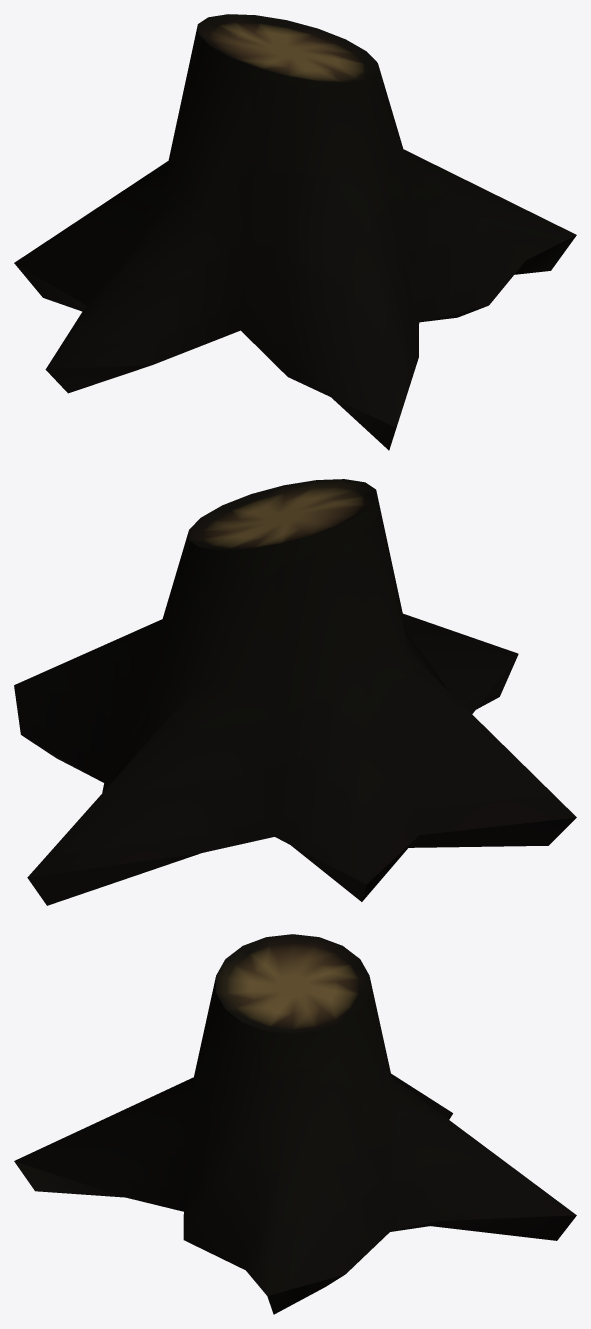
Rendered from Tree_Depleted.fbx.
3 renders of one model, top to bottom at view 1: azimuth 30°, elevation 25°; view 2: azimuth 150°, elevation 25°; view 3: azimuth 270°, elevation 25°, orthographic. The views are drawn at different scales.
Parts seen in each view (by area): view 1: Tree_Depleted; view 2: Tree_Depleted; view 3: Tree_Depleted.
Boxes of the visible parts, x1=… form: Tree_Depleted: x1=14, y1=14, x2=576, y2=450; Tree_Depleted: x1=14, y1=479, x2=576, y2=905; Tree_Depleted: x1=14, y1=934, x2=576, y2=1314.
Bounding box in the file's own units: 132 × 70.19 × 145.
